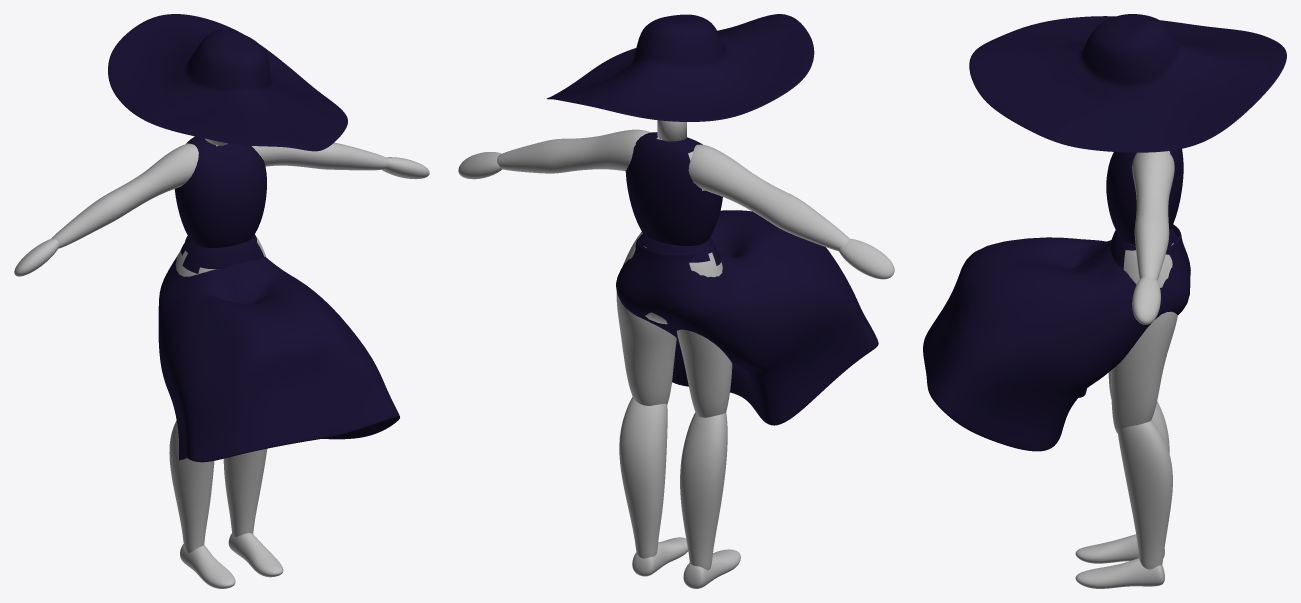
Rendered from SeatedNPC.fbx.
The picture shows the model from 3 angles, left to right: view 1: azimuth 30°, elevation 25°; view 2: azimuth 150°, elevation 25°; view 3: azimuth 270°, elevation 25°; orthographic projection. The views are drawn at different scales.
Parts seen in each view (by area): view 1: Circle, upperBody, Sphere; view 2: upperBody, Circle, Sphere; view 3: Circle, Sphere, upperBody.
Part boxes in pixels (x1,y1,x2,y2): Circle: (158, 236, 399, 462); upperBody: (14, 136, 429, 588); Sphere: (108, 14, 347, 151); upperBody: (458, 120, 894, 588); Circle: (616, 210, 878, 425); Sphere: (546, 14, 814, 121); Circle: (923, 224, 1190, 451); Sphere: (969, 14, 1286, 152); upperBody: (1075, 149, 1183, 588).
Size of the model in its own units: 560 by 685 by 407.
